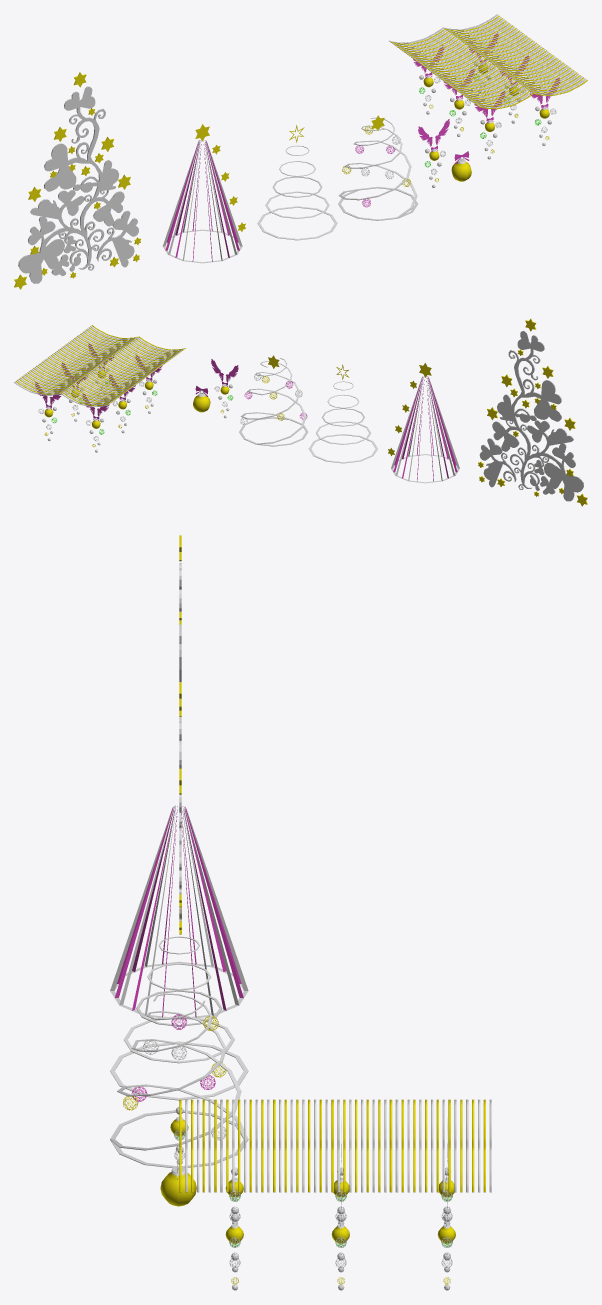
Rendered from 2021 Xmas Illumination.fbx.
3 views of the same model, one above another, from view 1: azimuth 30°, elevation 25°; view 2: azimuth 150°, elevation 25°; view 3: azimuth 270°, elevation 25° (orthographic). The views are drawn at different scales.
Visible parts, largest first — view 1: Xmas Decorations Example, Xmas Tree 001, Xmas Tree 002, Xmas Tree 004, Xmas Tree 003, Xmas Decorations, Xmas Ornament; view 2: Xmas Decorations Example, Xmas Tree 001, Xmas Tree 002, Xmas Tree 004, Xmas Tree 003, Xmas Decorations, Xmas Ornament; view 3: Xmas Decorations Example, Xmas Tree 002, Xmas Tree 004, Xmas Tree 003, Xmas Tree 001, Xmas Ornament.
Boxes of the visible parts, x1,y1,x2,y2 form: Xmas Decorations Example: [389, 14, 587, 159]; Xmas Tree 001: [14, 72, 140, 289]; Xmas Tree 002: [162, 140, 242, 263]; Xmas Tree 004: [338, 115, 417, 220]; Xmas Tree 003: [257, 125, 337, 240]; Xmas Decorations: [418, 119, 449, 187]; Xmas Ornament: [451, 151, 471, 181]; Xmas Decorations Example: [14, 325, 185, 452]; Xmas Tree 001: [478, 318, 587, 506]; Xmas Tree 002: [391, 376, 459, 483]; Xmas Tree 004: [239, 355, 308, 446]; Xmas Tree 003: [308, 364, 377, 463]; Xmas Decorations: [211, 359, 238, 418]; Xmas Ornament: [193, 385, 210, 412]; Xmas Decorations Example: [179, 1099, 491, 1290]; Xmas Tree 002: [110, 805, 248, 1020]; Xmas Tree 004: [110, 993, 248, 1168]; Xmas Tree 003: [110, 901, 248, 1100]; Xmas Tree 001: [179, 535, 181, 934]; Xmas Ornament: [160, 1150, 196, 1206].
Bounding box in the file's own units: 16.52 × 5.67 × 5.51.
